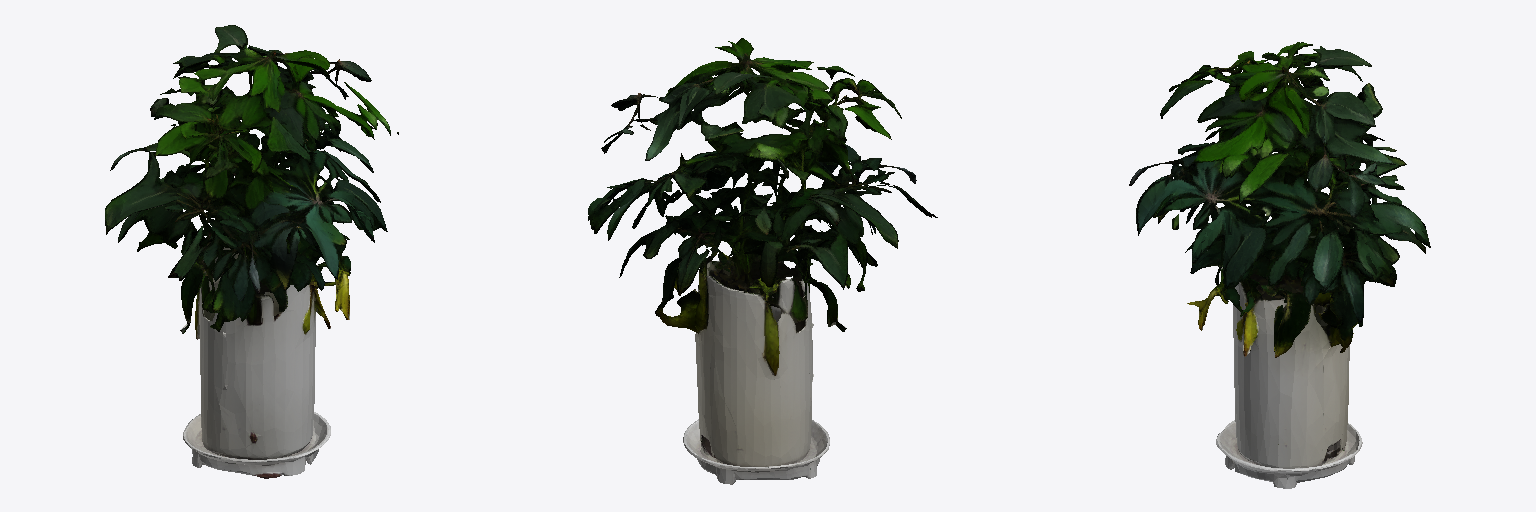
3 views of the same model, side by side, from view 1: azimuth 30°, elevation 25°; view 2: azimuth 150°, elevation 25°; view 3: azimuth 270°, elevation 25° (orthographic).
Visible parts, largest first — view 1: geometry_0; view 2: geometry_0; view 3: geometry_0.
Boxes of the visible parts, x1=… form: geometry_0: x1=105, y1=25, x2=398, y2=478; geometry_0: x1=588, y1=38, x2=937, y2=484; geometry_0: x1=1129, y1=42, x2=1430, y2=488.
Size of the model in its own units: 0.7235 by 0.999 by 0.6775.
1 materials, 1 textured.